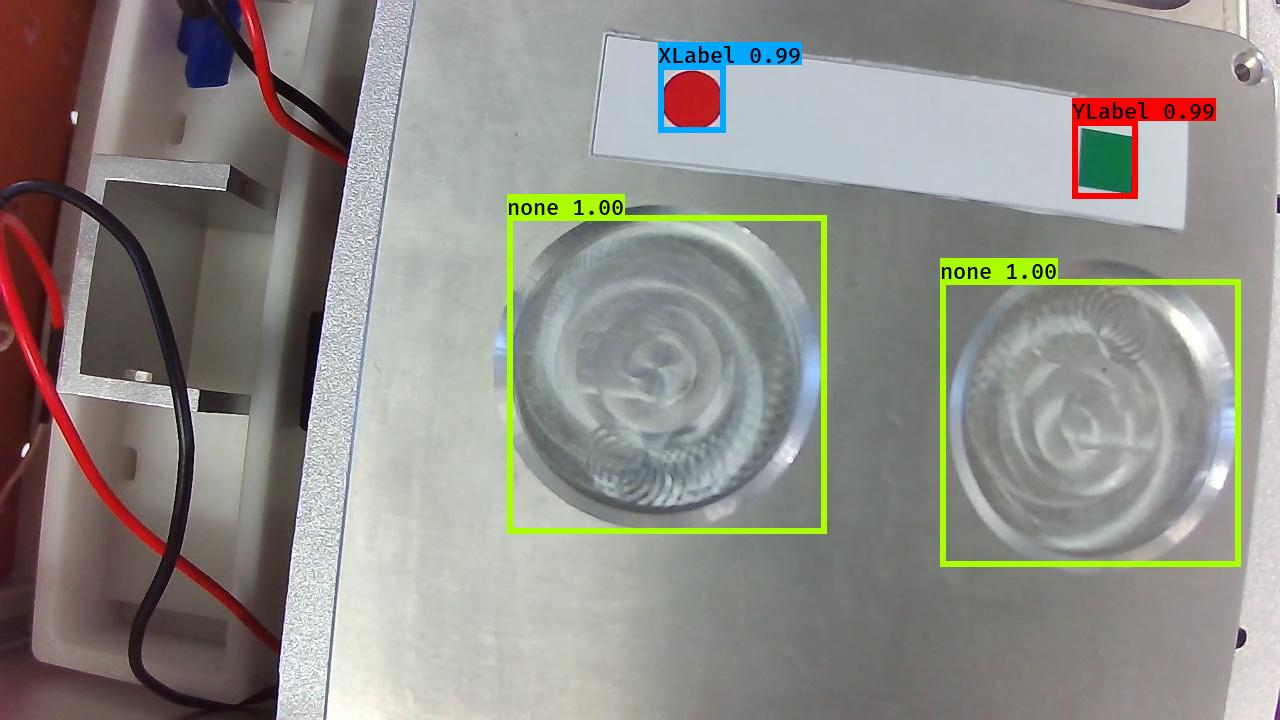XLabel: (660, 66, 726, 132)
YLabel: (1072, 123, 1145, 196)
none: (488, 201, 827, 536), (940, 251, 1245, 576)
